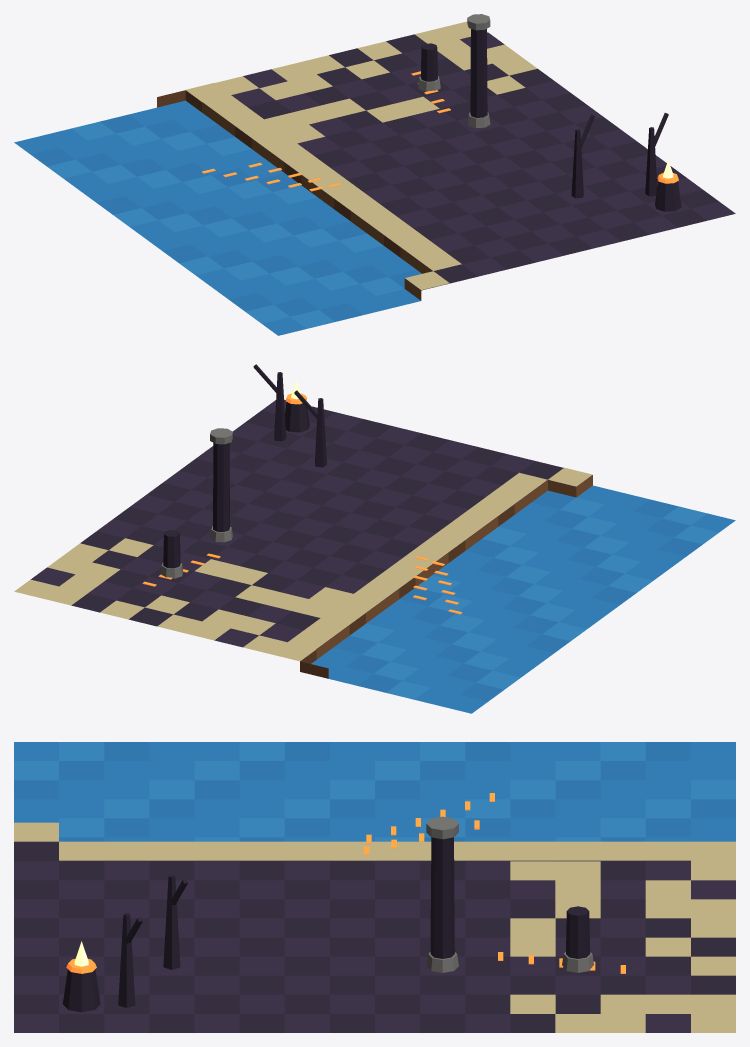
File: chunk_4_22.glb
3 views of the same model, one above another, from view 1: azimuth 30°, elevation 25°; view 2: azimuth 150°, elevation 25°; view 3: azimuth 270°, elevation 25° (orthographic). The views are drawn at different scales.
Parts seen in each view (by area): view 1: chunk_4_22; view 2: chunk_4_22; view 3: chunk_4_22.
Part boxes in pixels (<box>): chunk_4_22: <box>14,14,735,335</box>; chunk_4_22: <box>14,364,735,713</box>; chunk_4_22: <box>14,742,735,1032</box>.
Size of the model in its own units: 16 by 3.84 by 16.
